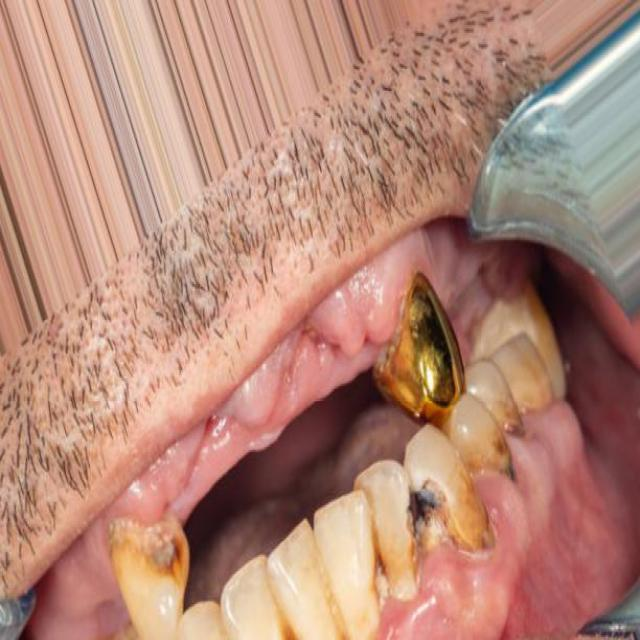caries: (392, 472, 462, 578), (485, 419, 524, 492), (145, 521, 188, 584), (494, 391, 528, 438)
